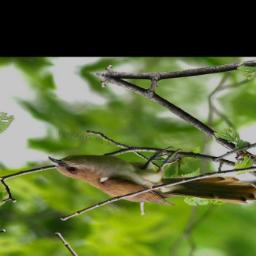Cuckoo: (38, 124, 256, 228)
